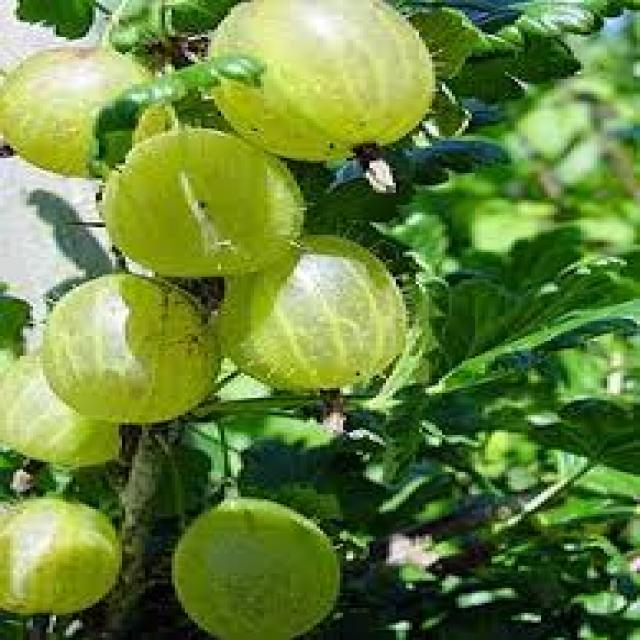organic waste: (201, 0, 432, 153), (228, 230, 406, 398), (106, 128, 300, 274), (165, 487, 340, 637), (49, 272, 218, 422), (0, 50, 178, 176), (0, 496, 115, 610), (0, 356, 119, 462)
